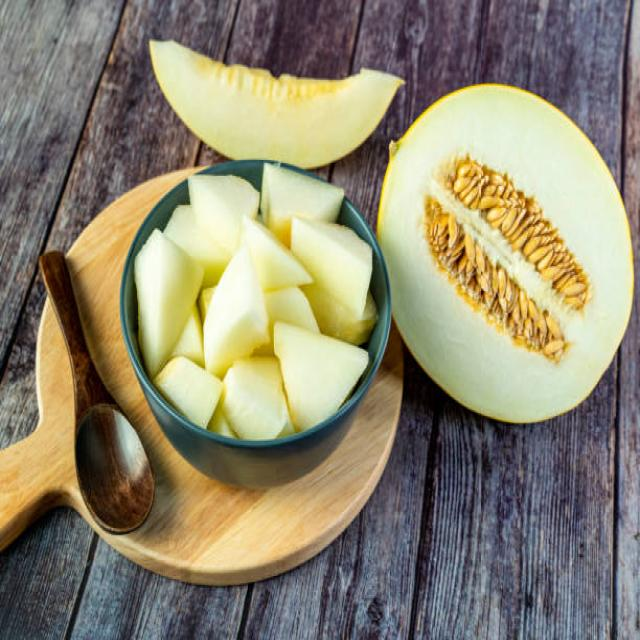melon: (409, 82, 636, 427), (148, 30, 402, 155)
